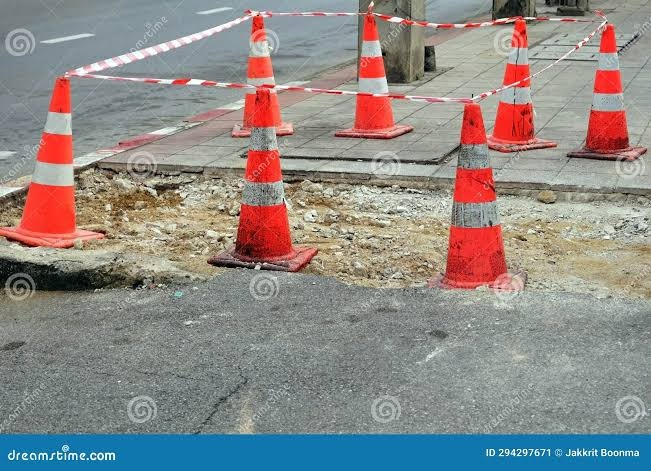safety_cone: (231, 85, 320, 267), (10, 74, 94, 254), (439, 96, 516, 291), (329, 11, 412, 146), (578, 21, 644, 170), (497, 17, 557, 165), (235, 10, 299, 137)
